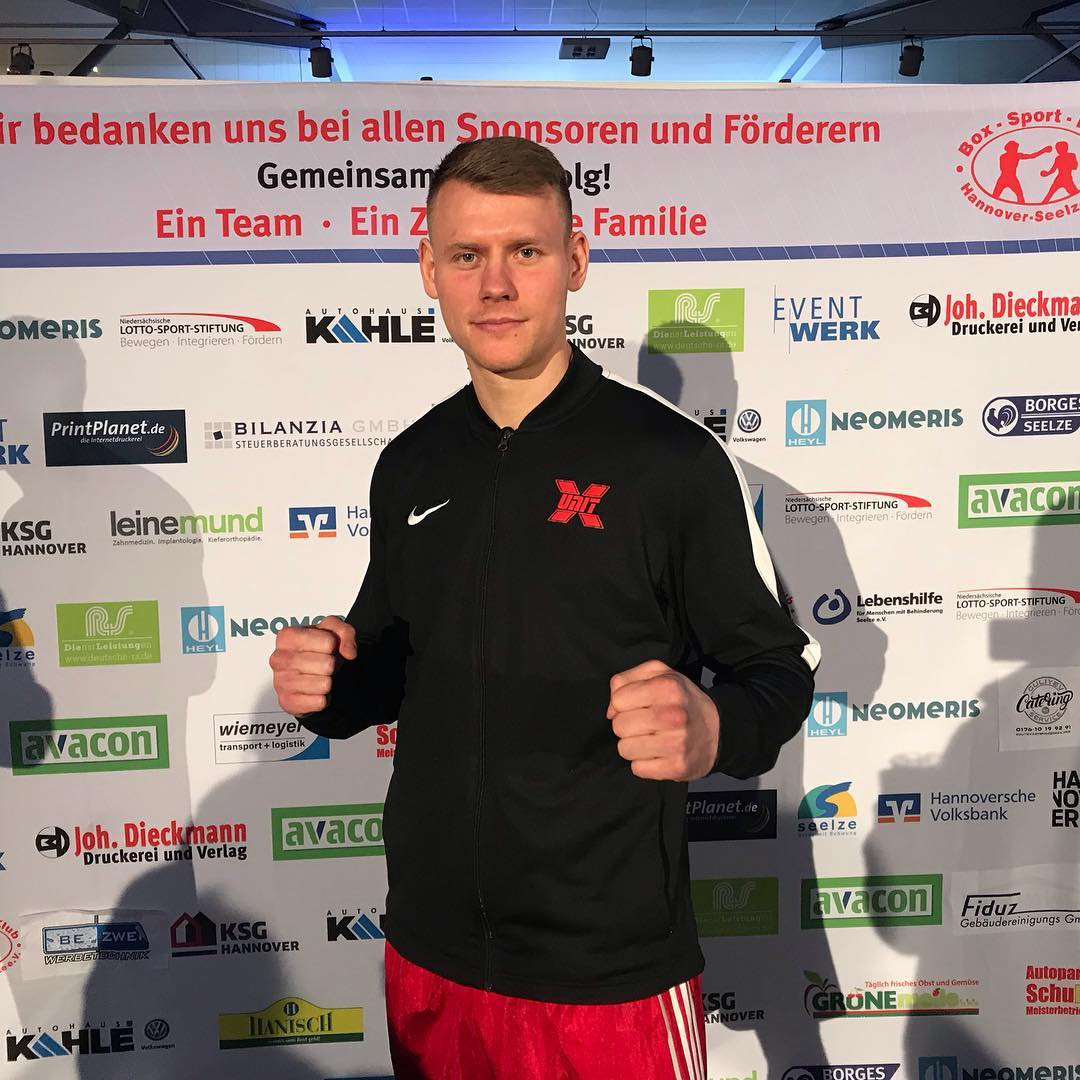hand: (611, 659, 726, 771)
